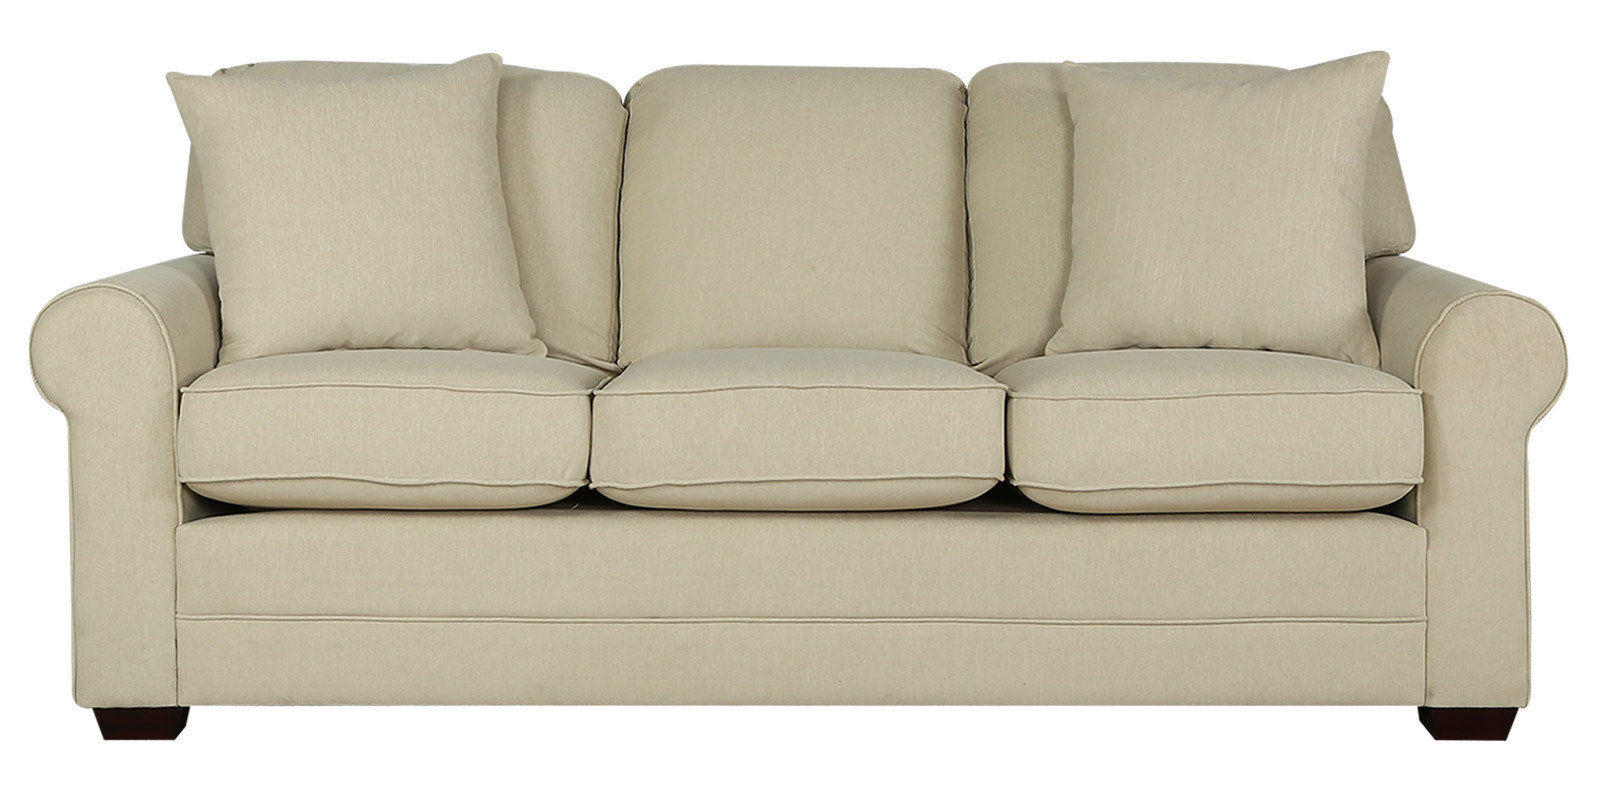Madeira Three Seater Sofa in Beige Colour by CasaCraft: (26, 49, 1567, 741)
